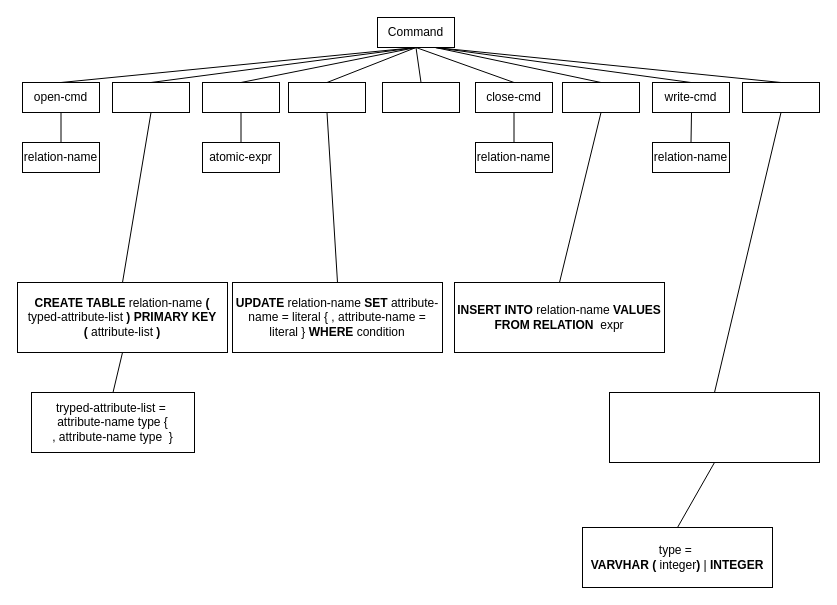
Image size: 837x605. Some labels were removed from this diagram. Each missing label, with the centre of its shape:
"create -cmd" belongs at point 151,97.
"DELETE FROM relation-name type { , attribute-name type }" belongs at point 714,427.
"delete-cmd" belongs at point 781,97.
"exit-cmd" belongs at point 421,97.
"insert-cmd" belongs at point 601,97.
"show-cmd" belongs at point 241,97.
"update -cmd" belongs at point 327,97.
